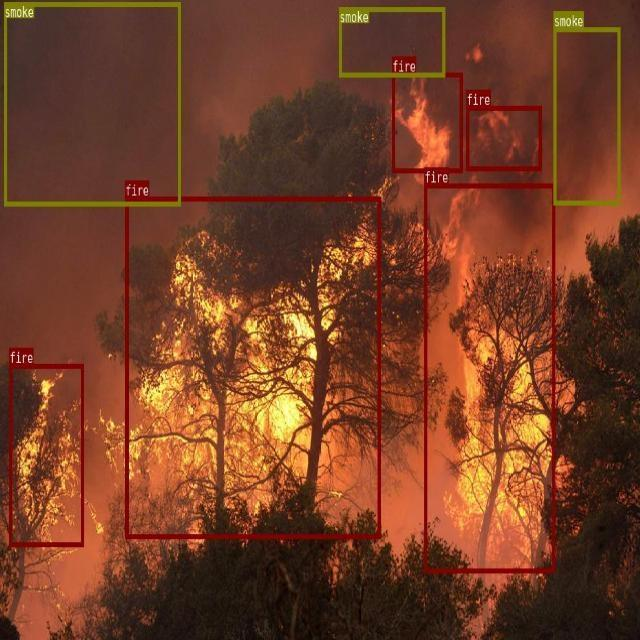fire: (125, 196, 380, 538), (424, 183, 554, 572), (9, 364, 83, 546), (391, 72, 462, 172), (466, 106, 541, 170)
smoke: (4, 2, 180, 205), (553, 27, 619, 204), (338, 7, 445, 77)
